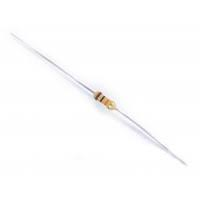resistor: (84, 81, 125, 117)
